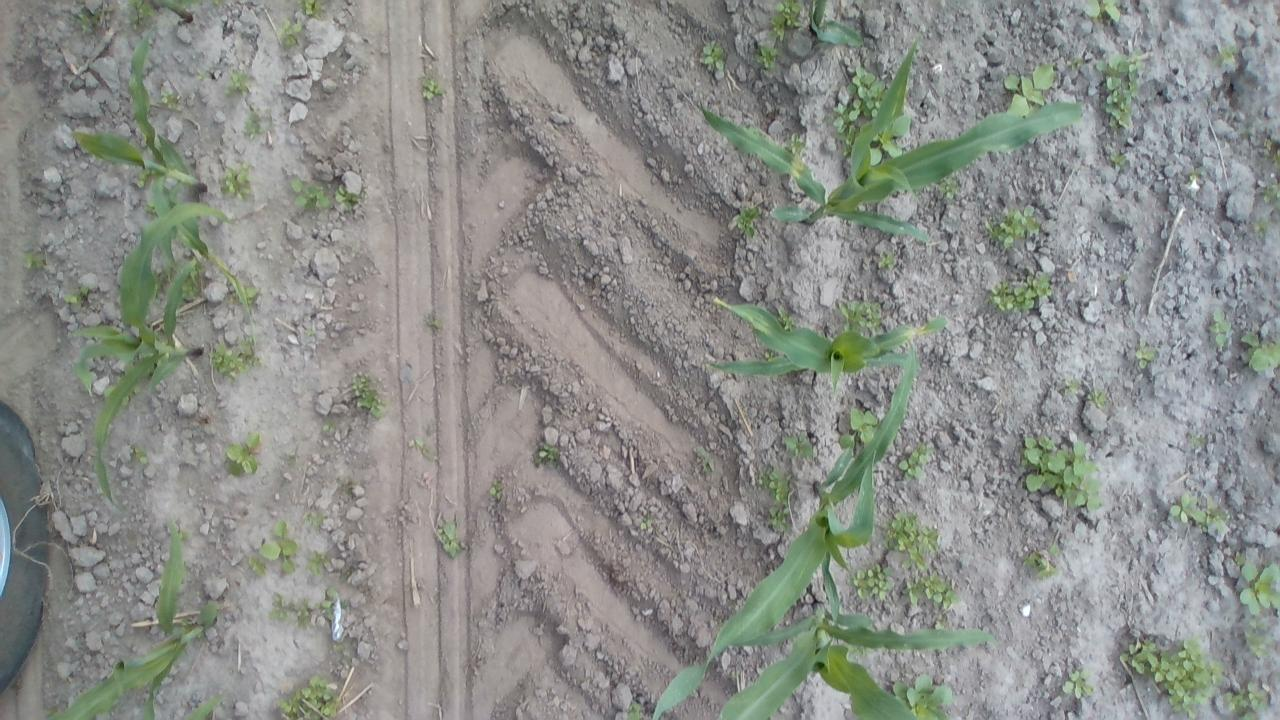Maize: (654, 341, 920, 720), (698, 30, 1082, 247), (68, 25, 256, 344), (67, 204, 235, 518), (45, 519, 227, 720), (713, 601, 999, 720), (706, 297, 948, 392), (806, 0, 866, 49), (143, 0, 202, 25)
Weeds: (1020, 434, 1104, 514), (1152, 635, 1226, 720), (1096, 46, 1145, 131), (881, 510, 938, 572), (1003, 59, 1054, 121), (888, 673, 954, 720), (276, 674, 340, 720), (983, 272, 1053, 314), (986, 203, 1042, 249), (1170, 493, 1230, 534), (208, 336, 262, 381), (1237, 563, 1280, 615), (846, 65, 888, 118), (902, 572, 960, 610), (868, 116, 911, 167), (260, 520, 298, 574), (823, 104, 859, 157), (224, 430, 262, 478), (846, 562, 894, 600), (1240, 331, 1280, 373), (838, 408, 878, 450), (352, 374, 389, 419), (837, 300, 882, 337), (1120, 638, 1160, 676), (768, 0, 804, 42), (756, 466, 792, 507), (1222, 682, 1268, 714), (217, 160, 252, 202), (899, 442, 933, 482), (1023, 544, 1060, 577), (290, 178, 329, 209), (436, 517, 461, 559), (125, 0, 157, 32), (1244, 628, 1276, 660), (1208, 307, 1232, 349), (1060, 669, 1094, 698), (733, 204, 761, 239), (180, 263, 206, 299), (69, 6, 102, 34), (274, 17, 304, 47), (700, 38, 726, 72), (268, 592, 296, 622), (1084, 0, 1120, 22), (532, 442, 560, 470), (224, 68, 250, 98), (784, 434, 814, 460), (332, 185, 360, 212), (755, 44, 781, 70), (240, 110, 264, 138), (1134, 338, 1156, 368), (767, 506, 792, 532), (420, 73, 444, 100), (782, 132, 806, 158), (62, 284, 88, 307), (694, 446, 713, 476), (294, 598, 312, 629), (306, 552, 330, 575), (939, 174, 960, 199), (152, 262, 172, 288), (775, 306, 796, 330), (841, 641, 874, 656), (1086, 388, 1108, 410), (20, 250, 44, 270), (120, 384, 140, 407), (295, 0, 322, 17), (1263, 183, 1280, 210), (314, 599, 335, 620), (1214, 44, 1236, 64), (248, 554, 267, 577), (140, 198, 160, 219), (128, 444, 148, 465), (1253, 216, 1273, 237), (408, 436, 428, 456), (136, 166, 152, 190), (102, 376, 121, 396), (160, 90, 178, 110), (1109, 150, 1128, 168), (877, 252, 896, 270), (243, 284, 260, 304), (304, 512, 325, 528), (1186, 431, 1204, 448), (488, 482, 504, 500), (339, 476, 354, 494), (626, 701, 640, 720), (1188, 166, 1204, 182), (1064, 378, 1080, 394), (1067, 56, 1085, 70), (640, 512, 654, 530), (762, 348, 779, 362), (322, 419, 338, 433), (426, 314, 442, 328), (1247, 618, 1268, 628), (1237, 710, 1258, 720), (932, 616, 946, 630), (42, 706, 58, 718), (1272, 148, 1280, 169), (340, 566, 350, 582), (178, 617, 190, 630), (1262, 138, 1274, 150), (197, 69, 210, 80), (330, 642, 344, 652), (177, 530, 190, 540), (1234, 554, 1246, 564), (326, 586, 336, 597), (306, 328, 316, 336), (729, 670, 738, 678), (1120, 273, 1128, 281), (341, 599, 348, 608), (212, 0, 220, 6)
